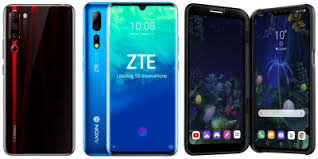lenovo: (3, 1, 77, 155)
